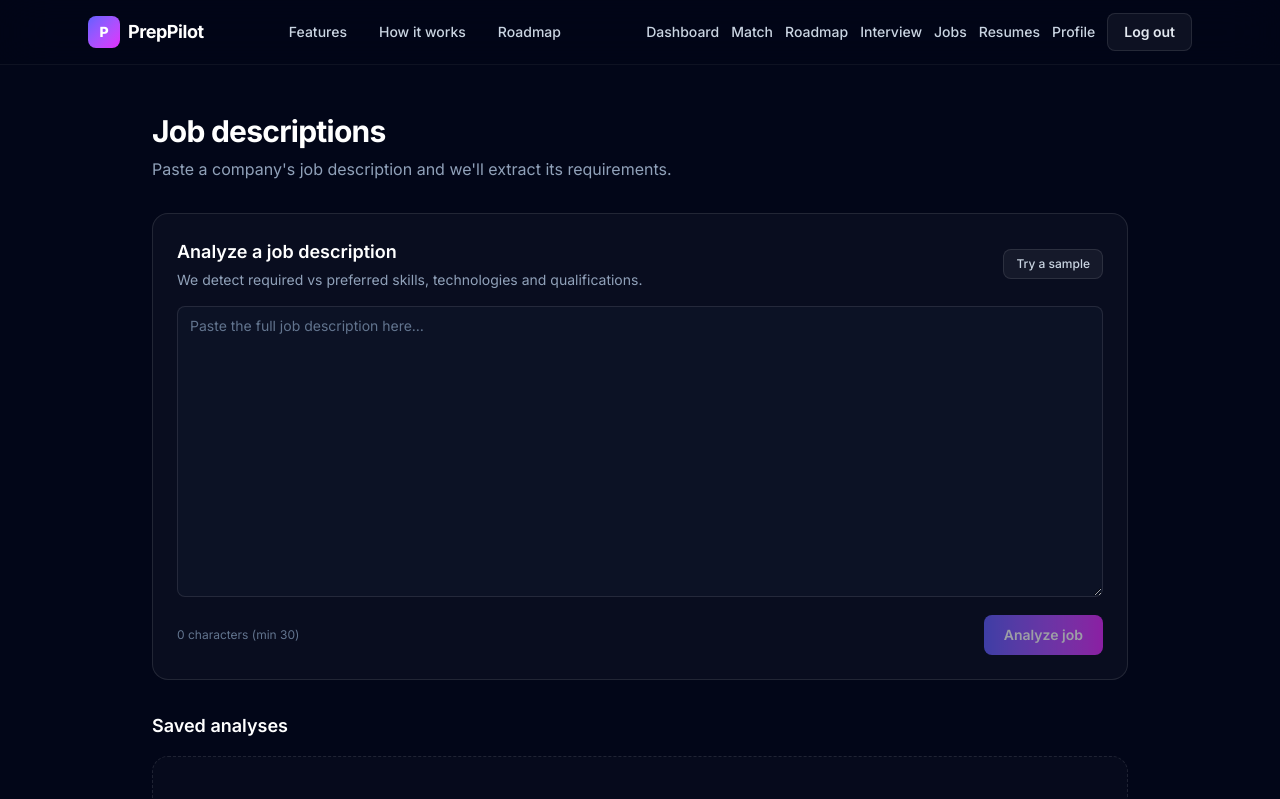
analyzes a pasted job description
Click the button "Try a sample".
click(1053, 264)  # box [1004,249,1103,279]
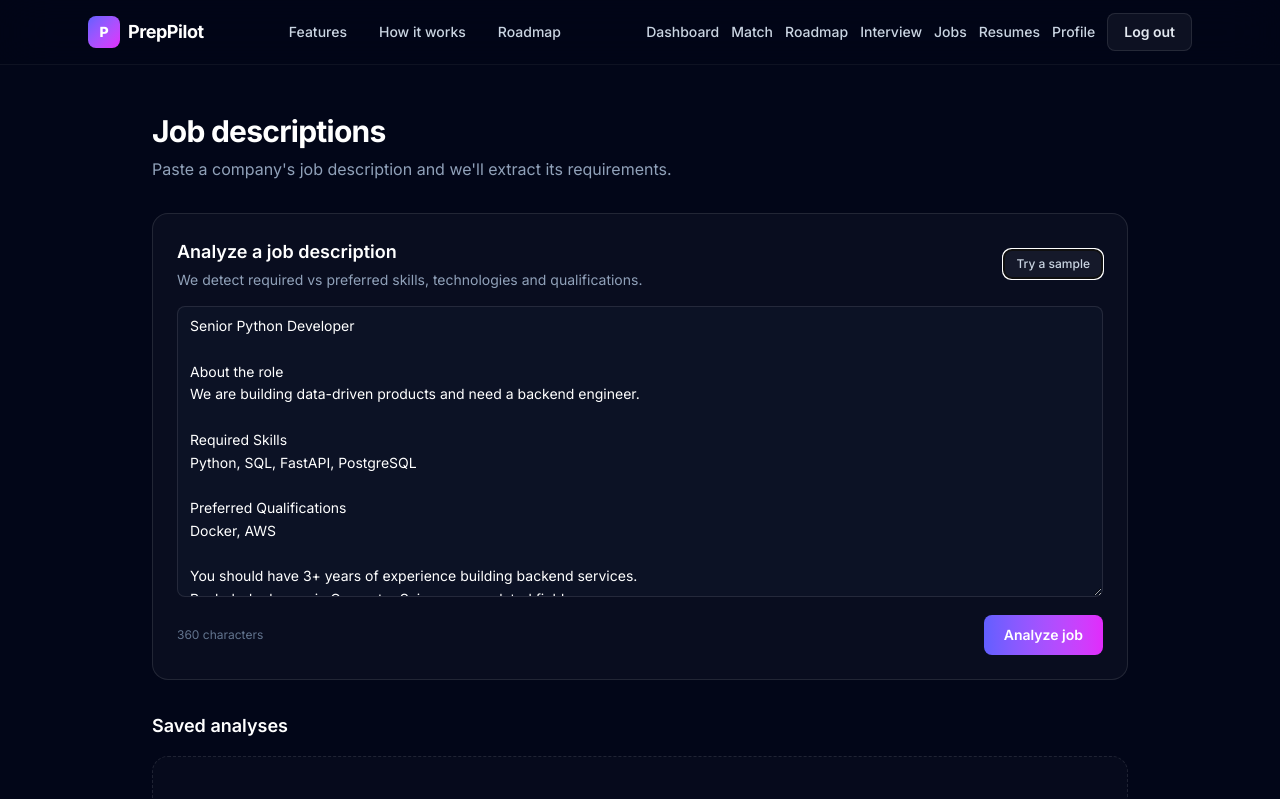
Click the button "Analyze job".
click(1043, 635)  # box [984,615,1103,655]
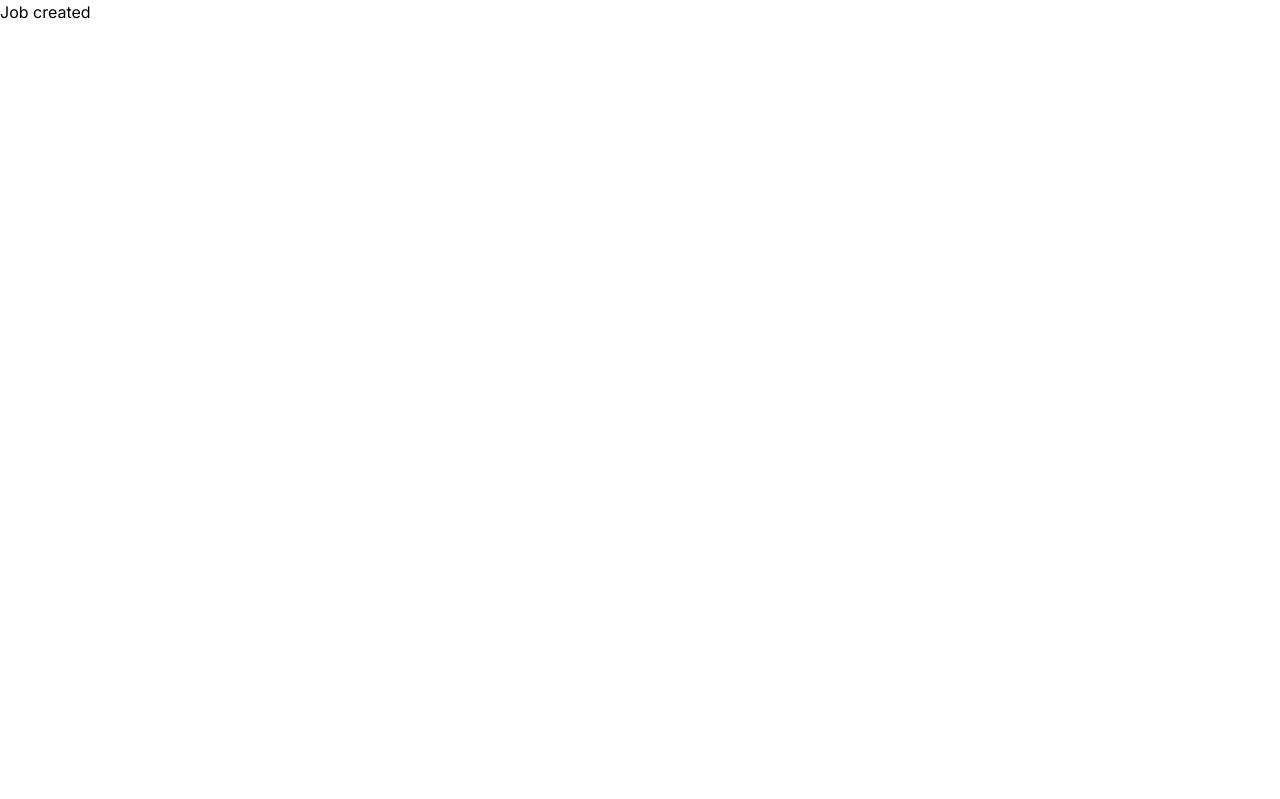
Expected: the text "Job created" is shown, [0,2,91,22]
